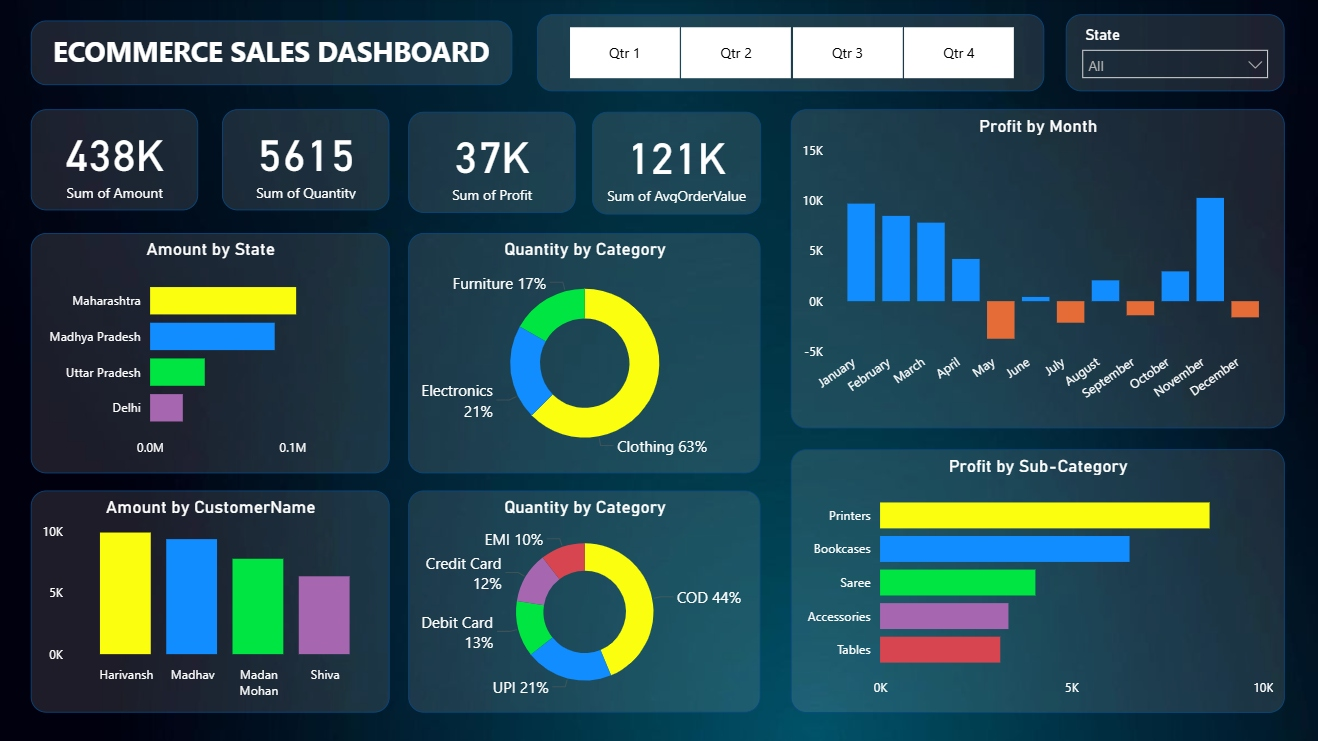

What the dashboard file says about the page in this screenshot:
{"tool":"powerbi","page":{"name":"Page 1","canvas":[1280,720],"ordinal":0},"visuals":[{"type":"textbox","box":[32.6,21.7,464.5,62.7],"z":0},{"type":"columnChart","title":"Profit by Month","fields":{"Y":["Sum(Details.Profit)"],"Category":["Orders.Order Date.Variation.Date Hierarchy.Month"]},"box":[766.1,107.4,476.5,307.6],"z":1000},{"type":"barChart","title":"Profit by Sub-Category","fields":{"Category":["Details.Sub-Category"],"Y":["Sum(Details.Profit)"]},"box":[766.1,435.5,476.5,254.6],"z":2000},{"type":"donutChart","title":"Quantity by Category","fields":{"Category":["Details.Category"],"Y":["Sum(Details.Quantity)"]},"box":[396.9,226.8,340.2,231.6],"z":3000},{"type":"donutChart","title":"Quantity by Category","fields":{"Y":["Sum(Details.Quantity)"],"Category":["Details.PaymentMode"]},"box":[396.9,475.3,340.2,214.7],"z":4000},{"type":"card","fields":{"Values":["Sum(Details.Amount)"]},"box":[32.6,107.4,161.7,97.7],"z":5000},{"type":"card","fields":{"Values":["Sum(Details.Quantity)"]},"box":[217.2,107.4,161.7,97.7],"z":6000},{"type":"card","fields":{"Values":["Sum(Details.Profit)"]},"box":[396.9,109.8,161.7,97.7],"z":7000},{"type":"card","fields":{"Values":["Sum(Details.AvgOrderValue)"]},"box":[574.3,109.8,162.9,98.9],"z":8000},{"type":"barChart","title":"Amount by State","fields":{"Category":["Orders.State"],"Y":["Sum(Details.Amount)"]},"box":[32.6,226.8,346.2,231.6],"z":9000},{"type":"columnChart","title":"Amount by CustomerName","fields":{"Category":["Orders.CustomerName"],"Y":["Sum(Details.Amount)"]},"box":[32.6,475.3,346.2,214.7],"z":10000},{"type":"slicer","fields":{"Values":["Orders.Order Date.Variation.Date Hierarchy.Quarter"]},"box":[521.2,15.7,489.8,74.8],"z":11000},{"type":"slicer","fields":{"Values":["Orders.State"]},"box":[1031.5,15.7,211.1,74.8],"z":12000}]}

Visuals, with their boxes in screenshot pixels (x1, y1, x2, y2), scaled from the page's 1280x720 canvas onto the 1318x741 screenshot:
textbox: Rect(34, 22, 512, 87)
"Profit by Month" columnChart: Rect(789, 111, 1279, 427)
"Profit by Sub-Category" barChart: Rect(789, 448, 1279, 710)
"Quantity by Category" donutChart: Rect(409, 233, 759, 472)
"Quantity by Category" donutChart: Rect(409, 489, 759, 710)
card - Sum(Details.Amount): Rect(34, 111, 200, 211)
card - Sum(Details.Quantity): Rect(224, 111, 390, 211)
card - Sum(Details.Profit): Rect(409, 113, 575, 214)
card - Sum(Details.AvgOrderValue): Rect(591, 113, 759, 215)
"Amount by State" barChart: Rect(34, 233, 390, 472)
"Amount by CustomerName" columnChart: Rect(34, 489, 390, 710)
slicer - Orders.Order Date.Variation.Date Hierarchy.Quarter: Rect(537, 16, 1041, 93)
slicer - Orders.State: Rect(1062, 16, 1279, 93)
